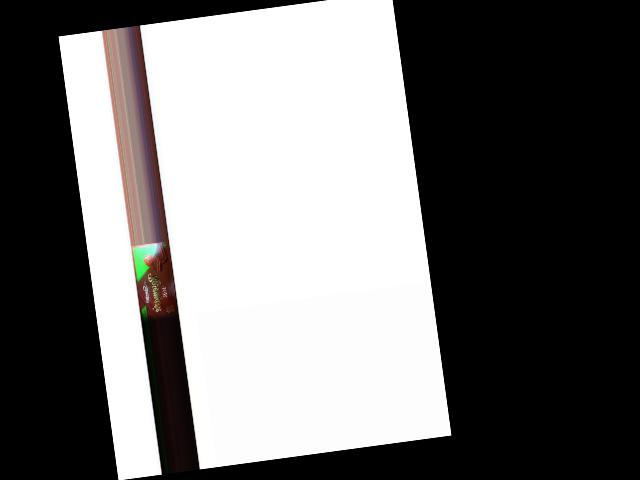chocolate: (132, 242, 179, 323)
